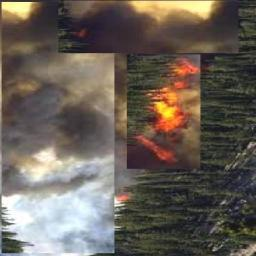Heavy smoke: (4, 0, 113, 252), (56, 0, 236, 54)
Large fire: (136, 50, 201, 167)
